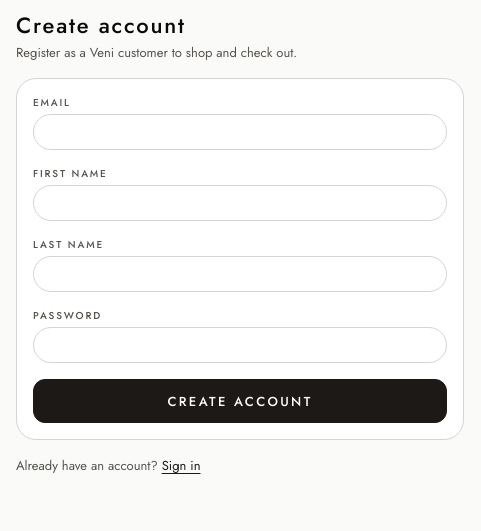
Scenario: RegisterPage › shows validation error from API
Type "dup@veni.test" into the field labelled "Email" at (240, 132), box [33,114,447,150]
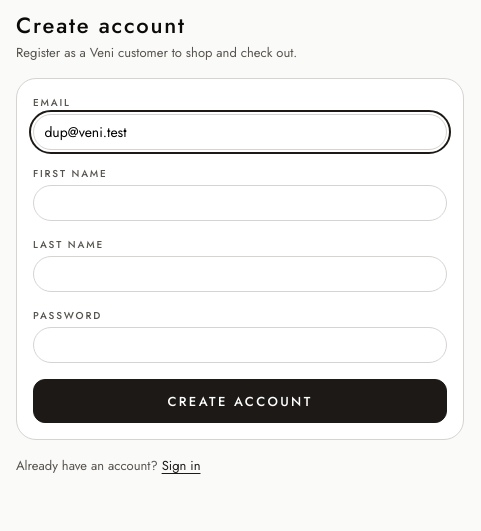
Type "StrongPass123!" into the password field labelled "Password" at (240, 345), box [33,327,447,363]
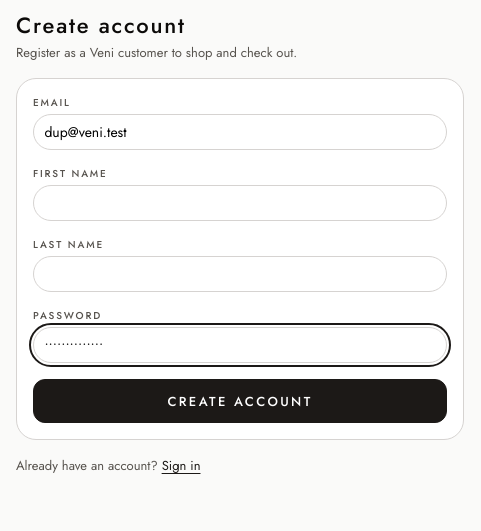
Click the button "Create account" at (240, 401), box [33,379,447,423]
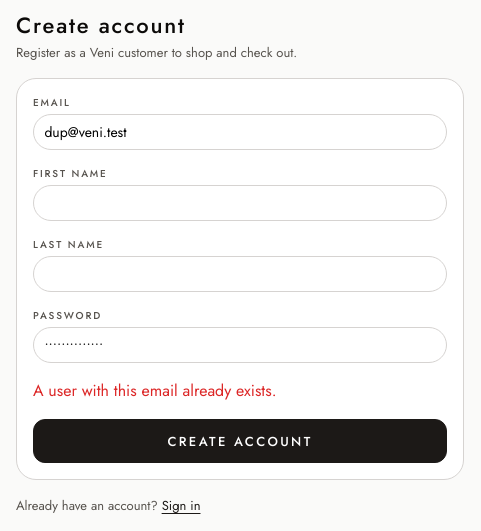
Result: the message shows "already exists" at [33,379,276,402]
